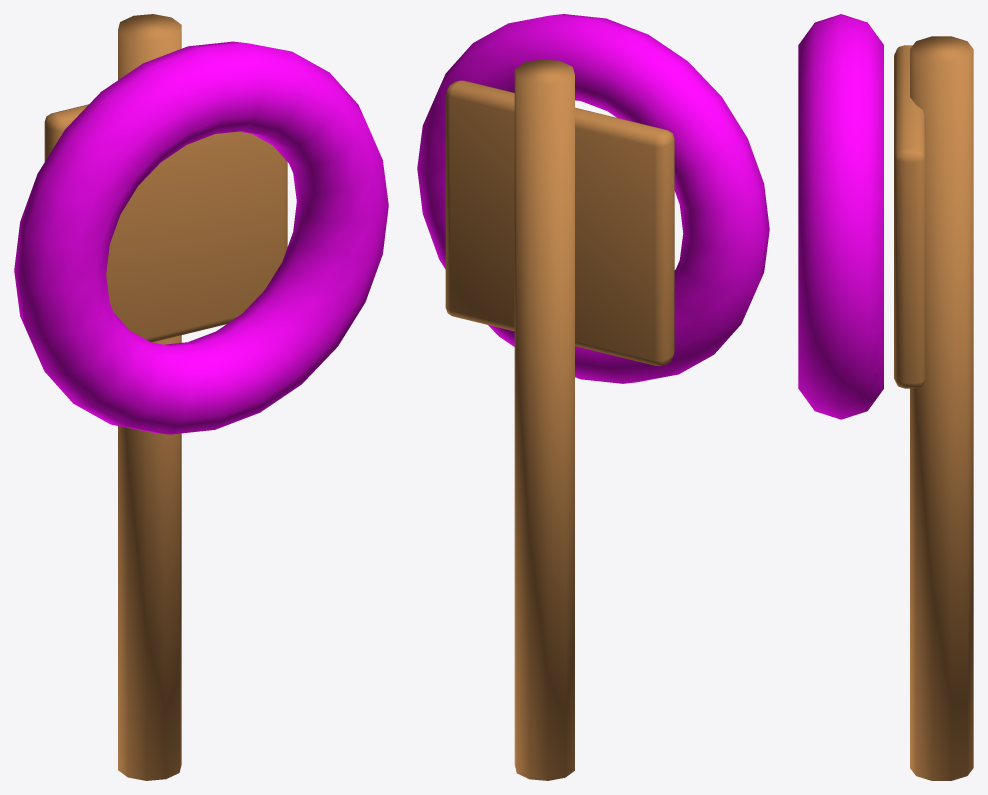
The model's file is life_ring_post.glb.
3 views of the same model, side by side, from view 1: azimuth 30°, elevation 25°; view 2: azimuth 150°, elevation 25°; view 3: azimuth 270°, elevation 25° (orthographic). The views are drawn at different scales.
Visible parts, largest first — view 1: life_ring_post; view 2: life_ring_post; view 3: life_ring_post.
Part boxes in pixels (left/top/right/bottom): life_ring_post: left=14, top=14, right=388, bottom=780; life_ring_post: left=417, top=14, right=769, bottom=780; life_ring_post: left=798, top=14, right=973, bottom=780.
Bounding box in the file's own units: 0.77 × 1.53 × 0.3308.
